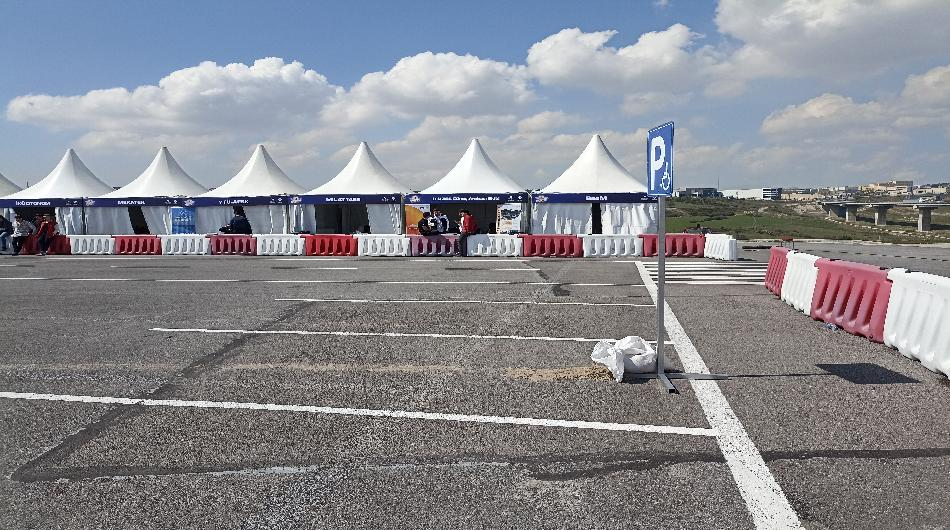engelli_park: (642, 120, 674, 201)
